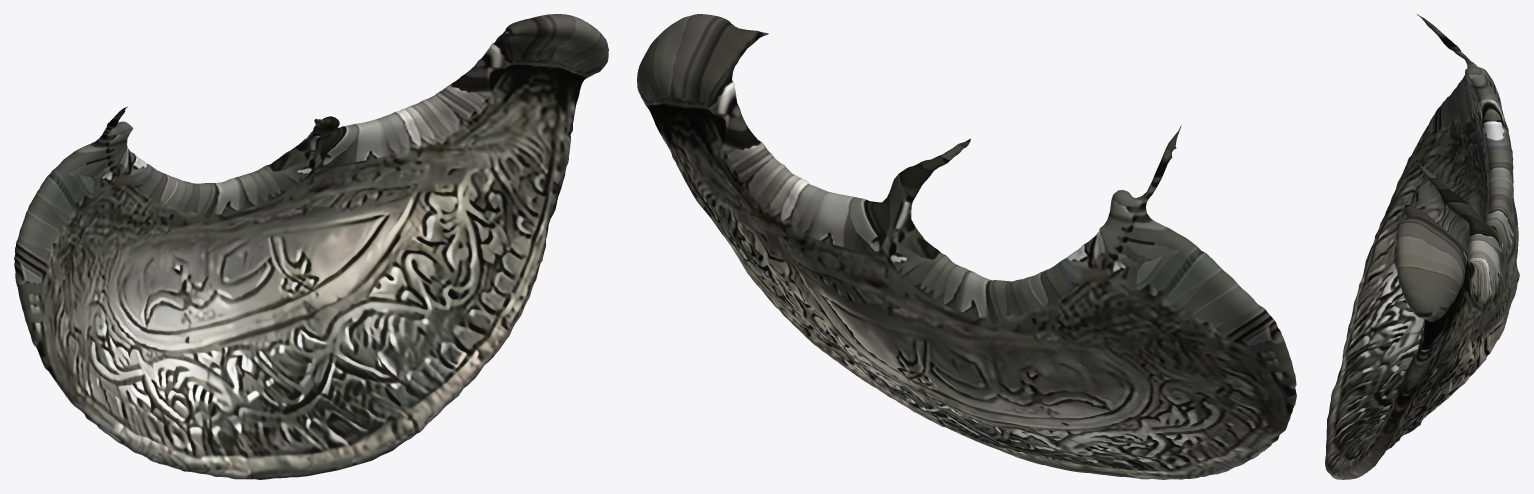
File: kfl-2160.glb
3 views of the same model, side by side, from view 1: azimuth 30°, elevation 25°; view 2: azimuth 150°, elevation 25°; view 3: azimuth 270°, elevation 25° (orthographic). The views are drawn at different scales.
Visible parts, largest first — view 1: kfl-2160; view 2: kfl-2160; view 3: kfl-2160.
Boxes of the visible parts, <box> form: kfl-2160: <box>14,14,608,479</box>; kfl-2160: <box>637,14,1296,479</box>; kfl-2160: <box>1325,14,1519,479</box>.
Bounding box in the file's own units: 0.9915 × 0.6078 × 0.2967.
1 material, 1 textured.
